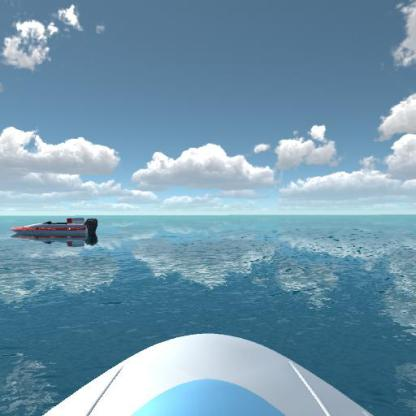usv3: (11, 213, 105, 251)
